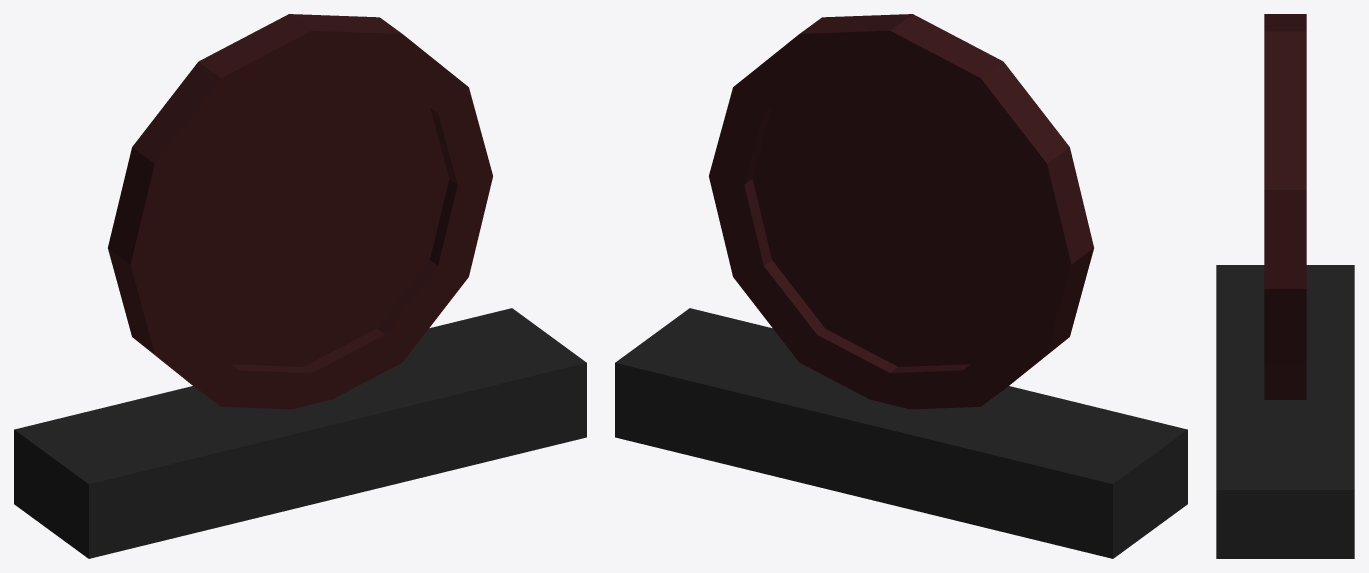
Rendered from TrophyV5Bronze.fbx.
The picture shows the model from 3 angles, left to right: view 1: azimuth 30°, elevation 25°; view 2: azimuth 150°, elevation 25°; view 3: azimuth 270°, elevation 25°; orthographic projection. The views are drawn at different scales.
Visible parts, largest first — view 1: TrophyV5Bronze; view 2: TrophyV5Bronze; view 3: TrophyV5Bronze.
Part boxes in pixels (x1=…): TrophyV5Bronze: x1=14, y1=14, x2=586, y2=558; TrophyV5Bronze: x1=615, y1=14, x2=1187, y2=558; TrophyV5Bronze: x1=1216, y1=14, x2=1354, y2=558.
Size of the model in its own units: 8.07 by 6.95 by 2.1.
